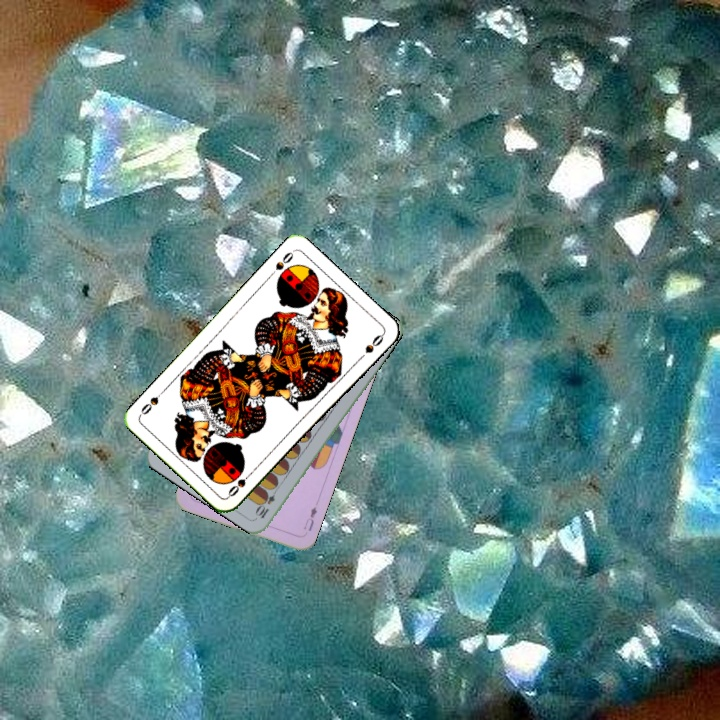E10: (252, 483, 281, 521)
EU: (299, 502, 319, 534)
SO: (224, 467, 256, 500), (265, 247, 296, 280)
